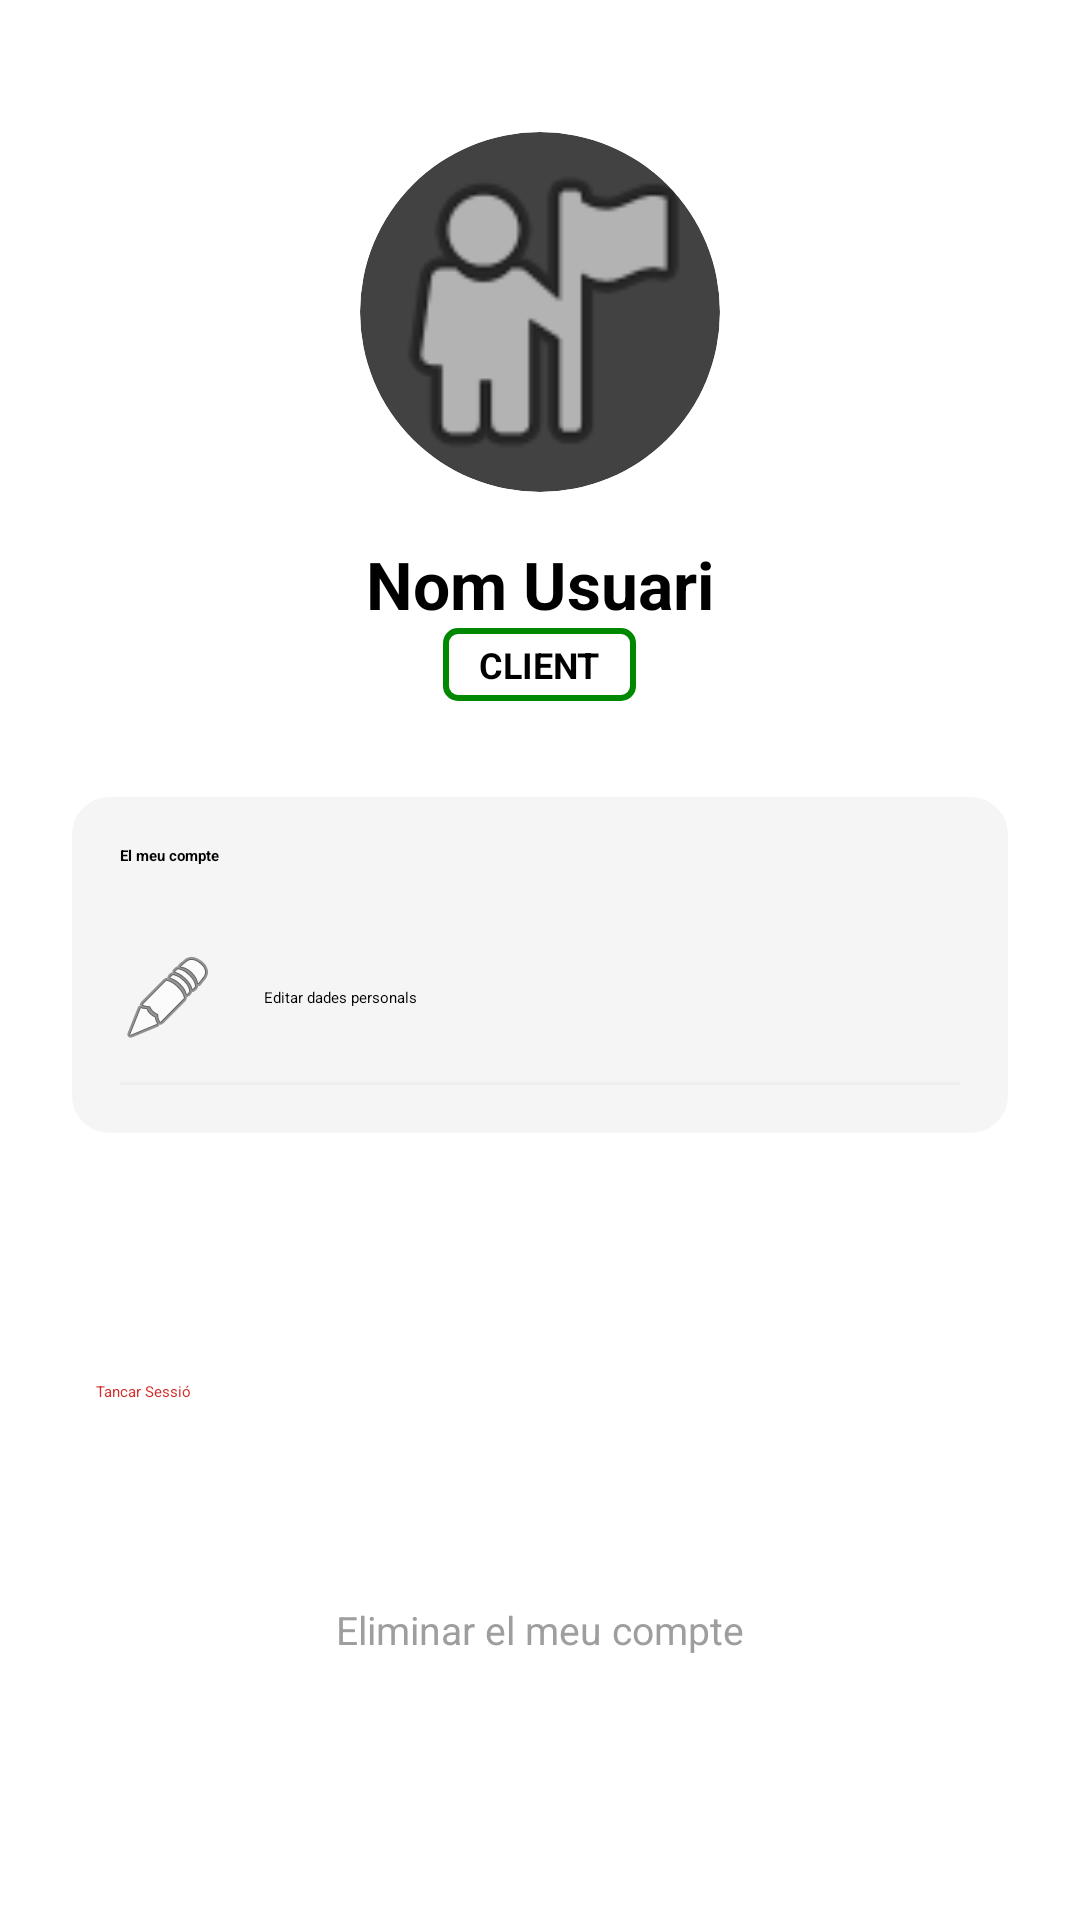

Screen size 1080x1920. Icon name, then its box in pixels as [x1,y1,x2,y2]:
myplaces: [360,132,720,492]
